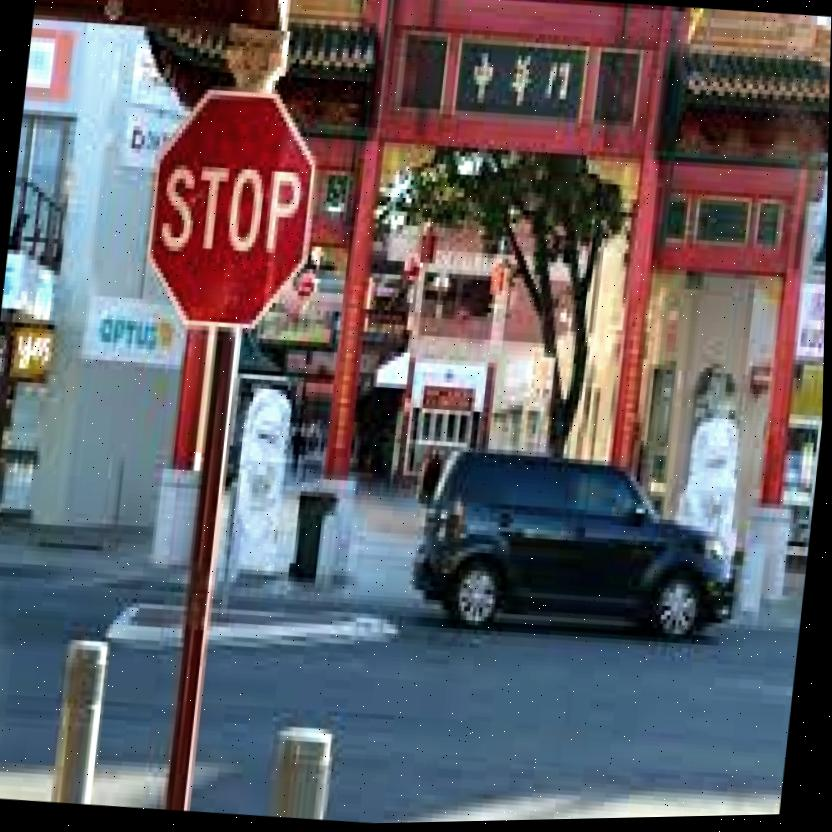Pole: (167, 323, 242, 809)
Sign: (138, 89, 325, 336)
